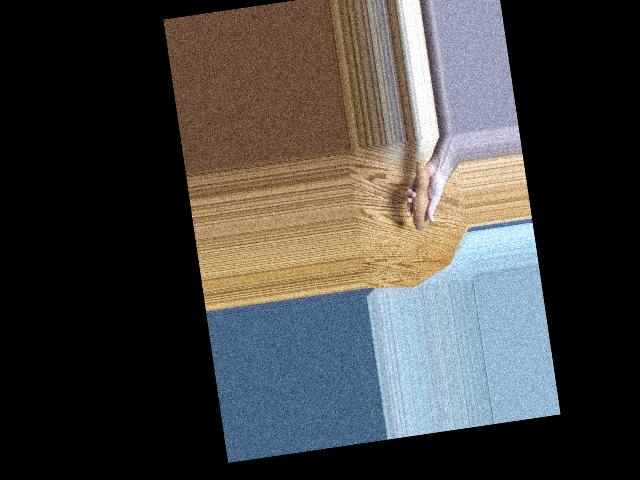sweet_potato: (402, 151, 442, 232)
